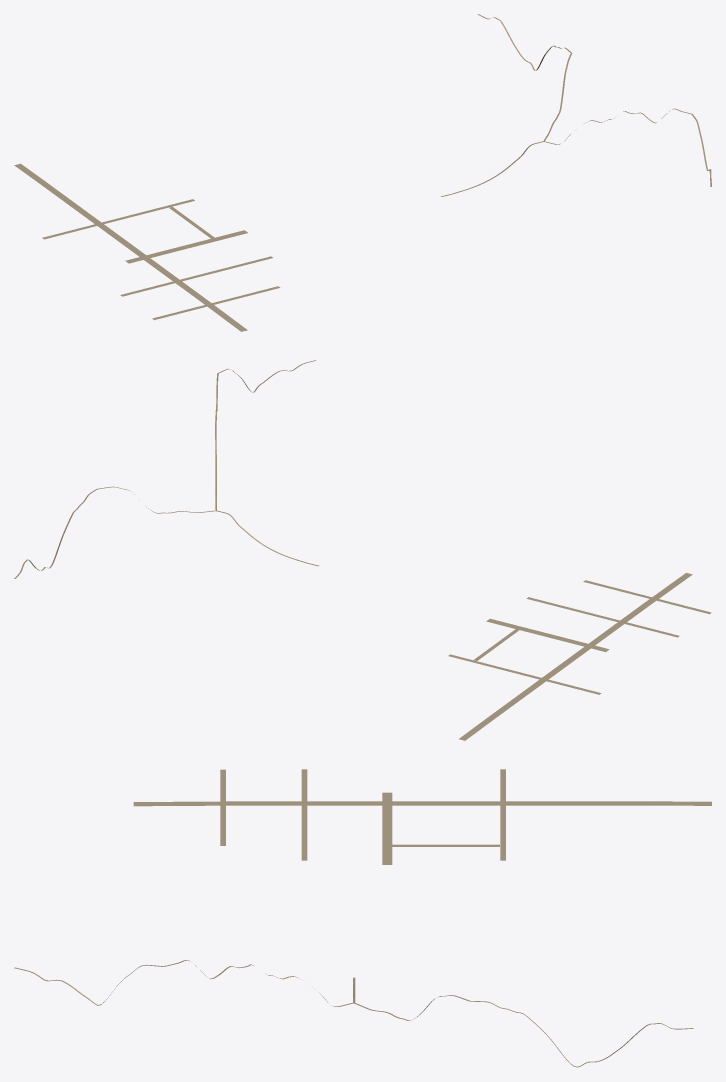
Rendered from SM_Edo_Town_Roads.fbx.
3 renders of one model, top to bottom at view 1: azimuth 30°, elevation 25°; view 2: azimuth 150°, elevation 25°; view 3: azimuth 270°, elevation 25°, orthographic. The views are drawn at different scales.
Visible parts, largest first — view 1: SM_Edo_Town_Roads; view 2: SM_Edo_Town_Roads; view 3: SM_Edo_Town_Roads.
Boxes of the visible parts, bbox=[...] form: SM_Edo_Town_Roads: bbox=[14, 14, 711, 331]; SM_Edo_Town_Roads: bbox=[14, 360, 711, 740]; SM_Edo_Town_Roads: bbox=[14, 769, 711, 1067].
Bounding box in the file's own units: 463 × 82.53 × 421.
